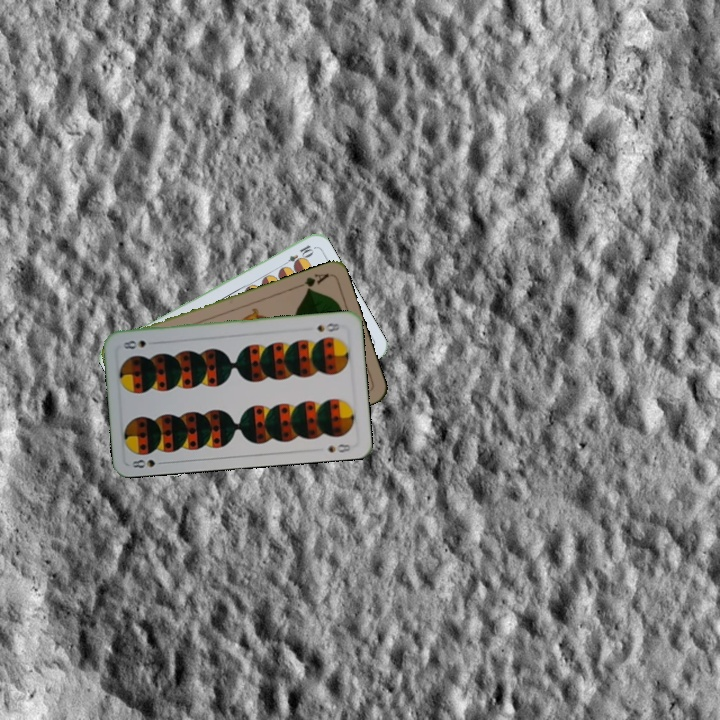E10: (278, 241, 316, 270)
GA: (292, 269, 332, 294)
S8: (128, 455, 168, 471), (313, 319, 342, 334)
